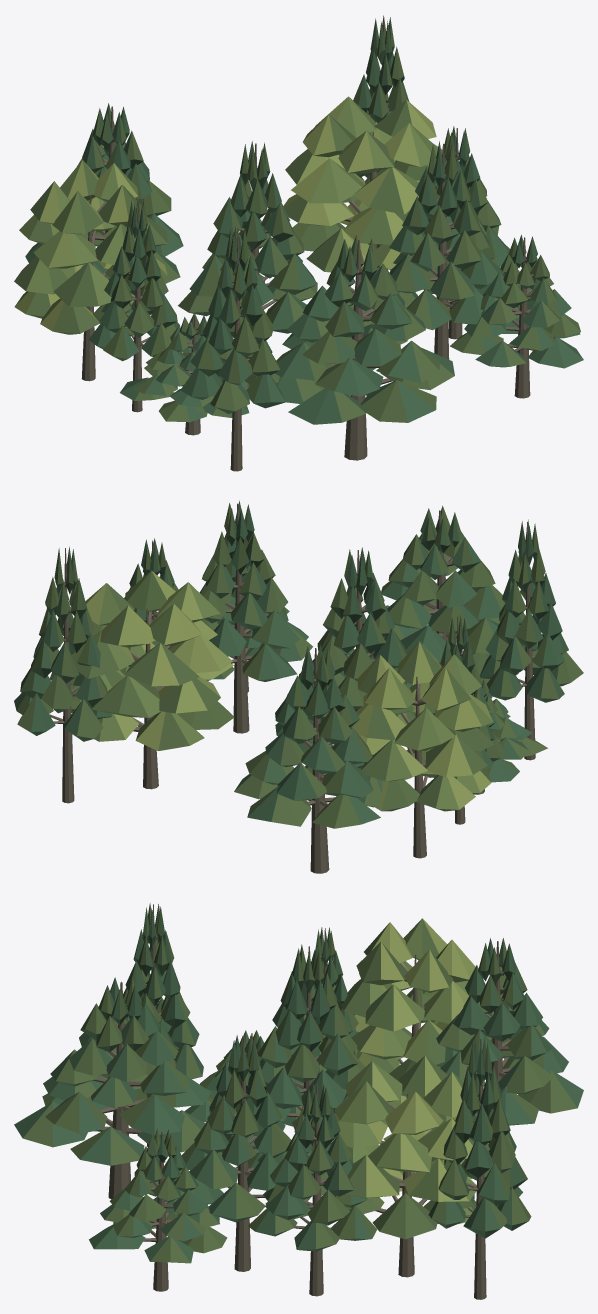
File: TREE12.glb
The picture shows the model from 3 angles, top to bottom: view 1: azimuth 30°, elevation 25°; view 2: azimuth 150°, elevation 25°; view 3: azimuth 270°, elevation 25°; orthographic projection. The views are drawn at different scales.
Visible parts, largest first — view 1: Fitted street and landscape details; view 2: Fitted street and landscape details; view 3: Fitted street and landscape details.
Boxes of the visible parts, box(x1,y1,x2,y2) form: Fitted street and landscape details: box(14, 15, 583, 471); Fitted street and landscape details: box(14, 500, 583, 873); Fitted street and landscape details: box(14, 903, 583, 1299).
Bounding box in the file's own units: 15.81 × 8.74 × 17.4.
